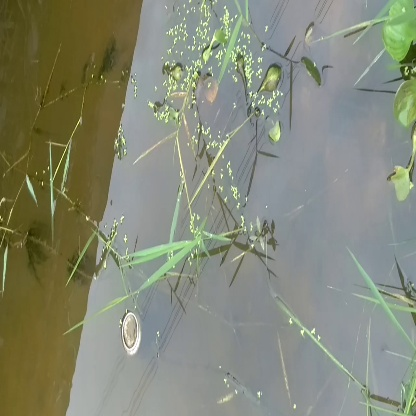bottle: (114, 303, 149, 356)
